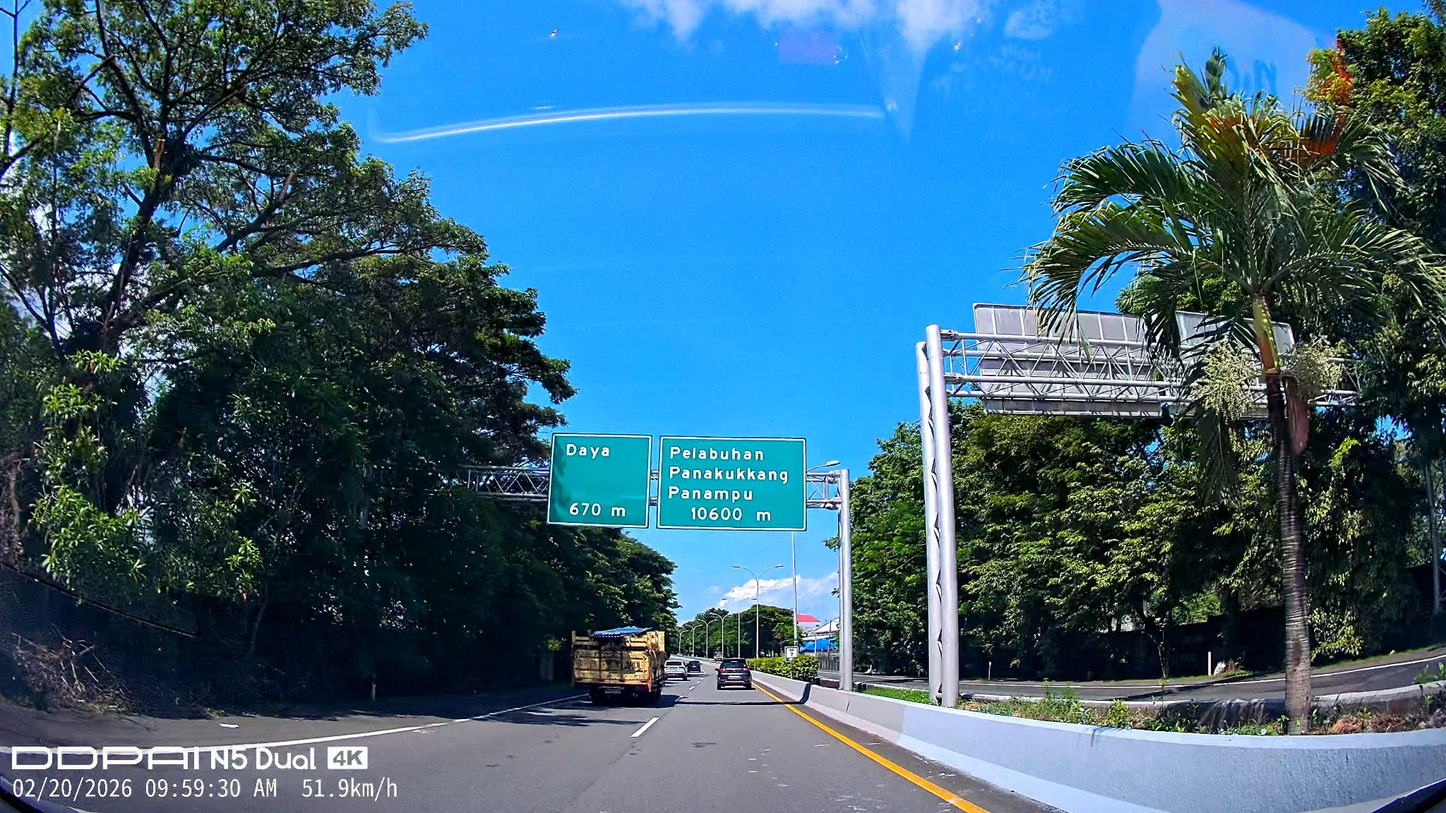rambu_teks: (656, 436, 808, 532), (547, 432, 652, 529)
